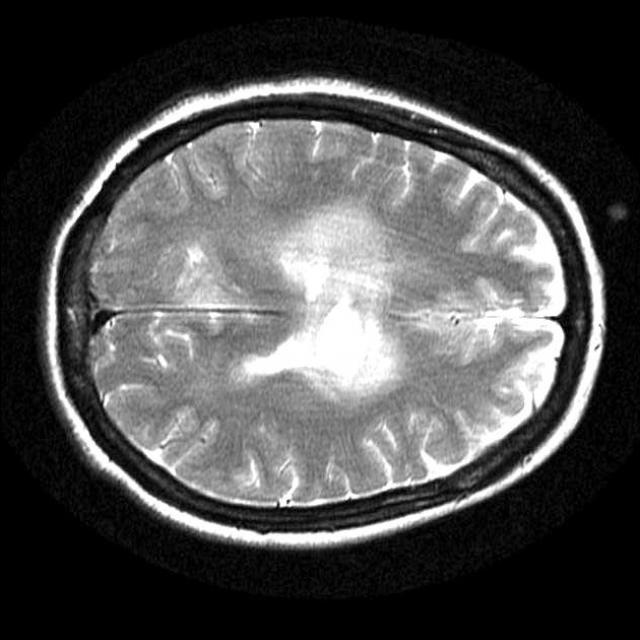tumor: (234, 205, 401, 408)
